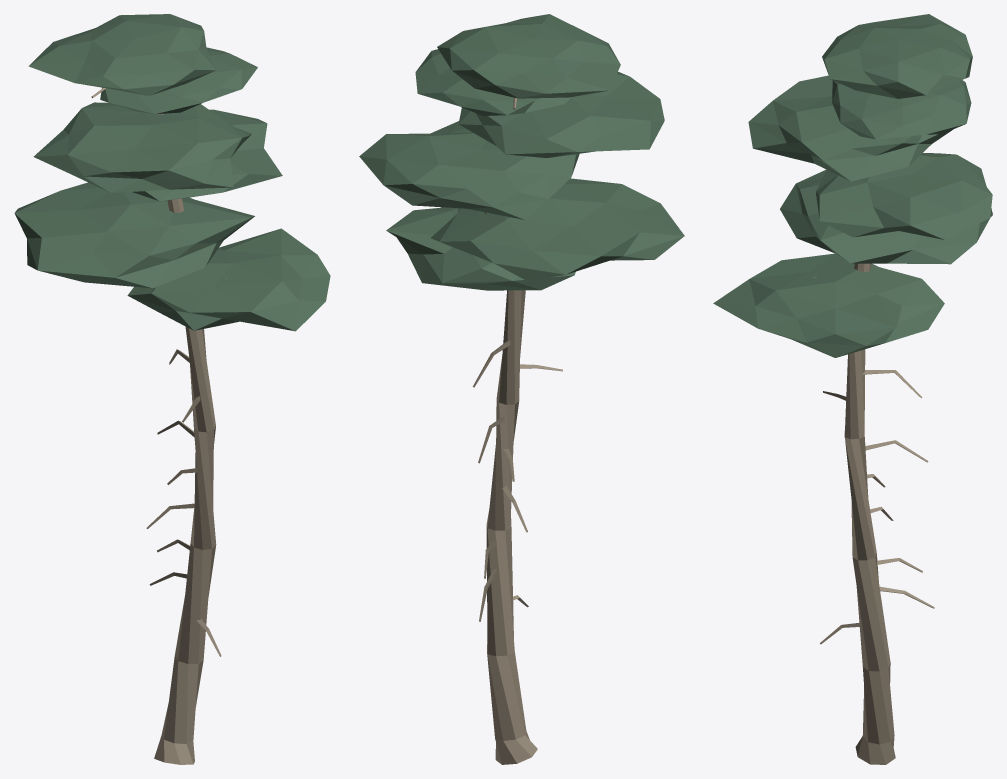
The model's file is tree_pine.glb.
The picture shows the model from 3 angles, left to right: view 1: azimuth 30°, elevation 25°; view 2: azimuth 150°, elevation 25°; view 3: azimuth 270°, elevation 25°; orthographic projection. The views are drawn at different scales.
Parts seen in each view (by area): view 1: tree_pine; view 2: tree_pine; view 3: tree_pine.
Part boxes in pixels (left/top/right/bottom): tree_pine: left=14, top=14, right=330, bottom=764; tree_pine: left=359, top=14, right=684, bottom=764; tree_pine: left=713, top=14, right=992, bottom=764.
Bounding box in the file's own units: 6.44 × 16 × 5.76.
